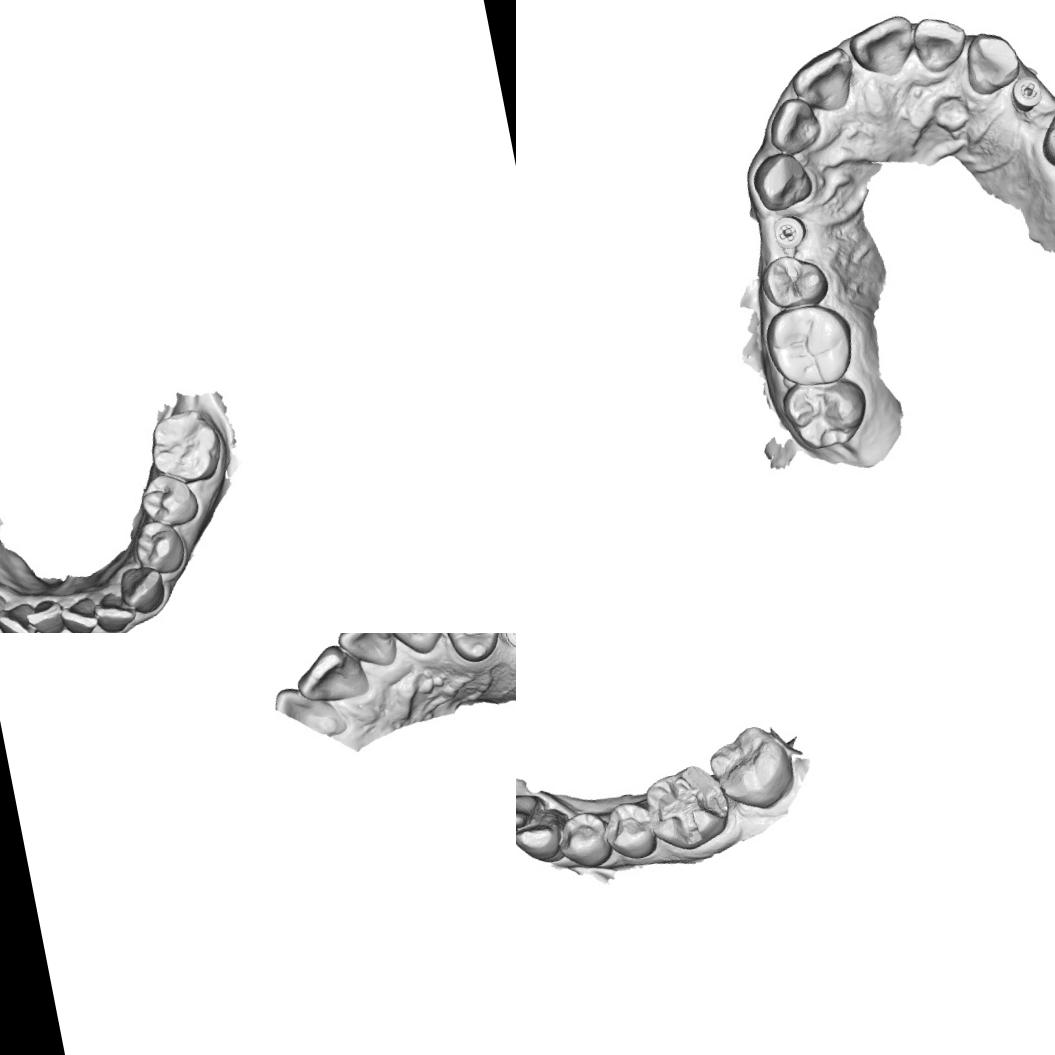canine: (748, 146, 818, 216), (958, 26, 1026, 98), (114, 561, 168, 618), (516, 815, 563, 868), (381, 633, 454, 661), (0, 584, 13, 633)
implant_plus: (768, 211, 810, 252), (1006, 72, 1046, 114)
incisor: (288, 638, 373, 708), (784, 42, 862, 114), (844, 10, 920, 78), (762, 94, 826, 158), (908, 10, 971, 75), (331, 633, 399, 673), (88, 586, 141, 633), (56, 593, 101, 633), (21, 595, 67, 633), (0, 598, 40, 633), (516, 789, 536, 835)
inlay: (650, 768, 734, 850)
molar: (702, 718, 800, 818), (759, 297, 860, 392), (778, 374, 874, 454), (142, 404, 228, 490)
premolar: (755, 246, 833, 313), (134, 467, 202, 533), (553, 807, 617, 874), (598, 796, 660, 864), (128, 514, 191, 580), (437, 633, 507, 665), (1033, 96, 1055, 168)
